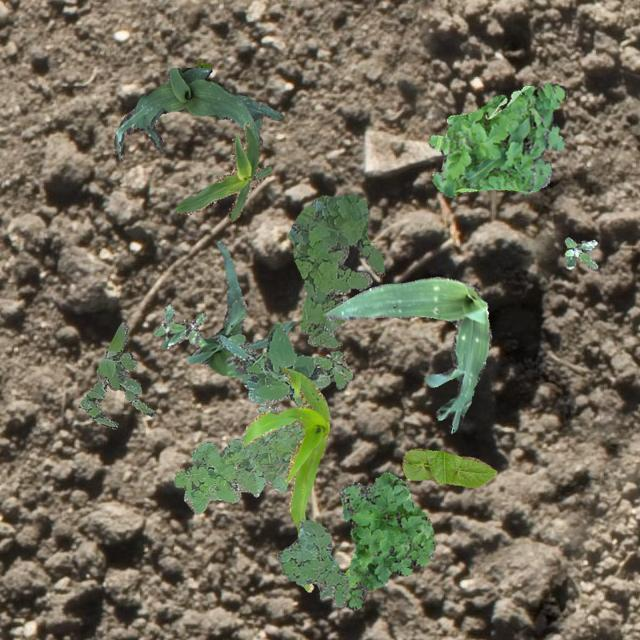crop: (322, 276, 490, 432), (242, 367, 330, 590), (186, 240, 294, 382), (114, 66, 282, 152), (174, 122, 270, 220), (400, 448, 496, 487)
weed: (428, 82, 564, 196), (286, 195, 382, 346), (172, 404, 302, 514), (338, 470, 434, 610), (218, 320, 352, 406), (78, 320, 154, 428), (274, 518, 348, 606), (153, 304, 205, 348), (564, 236, 596, 268), (190, 58, 210, 66)
